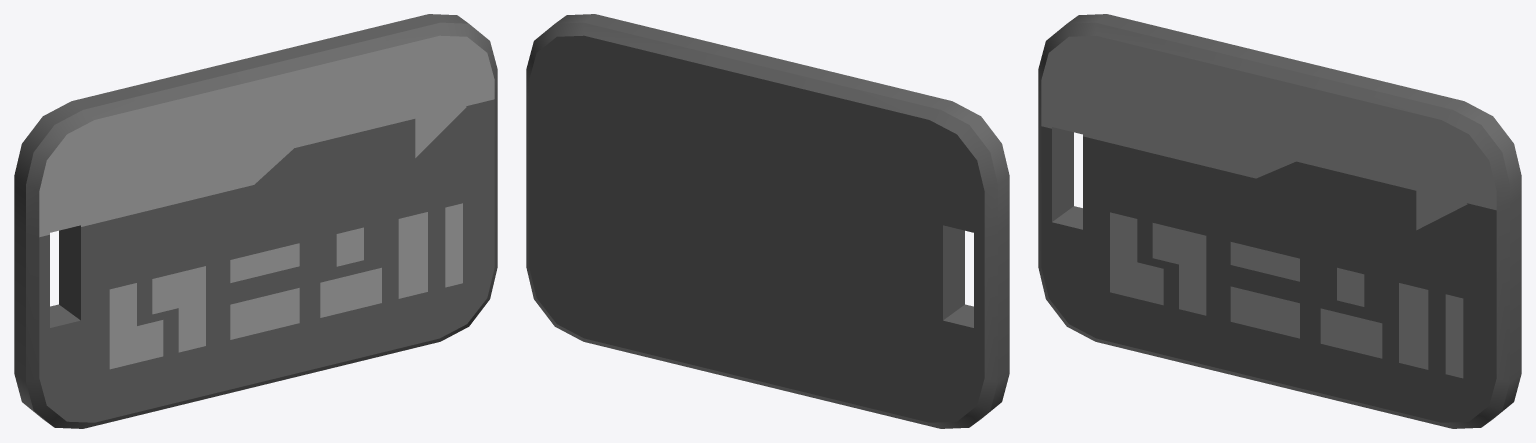
File: pickup_keycard.glb
3 views of the same model, side by side, from view 1: azimuth 30°, elevation 25°; view 2: azimuth 150°, elevation 25°; view 3: azimuth 330°, elevation 25° (orthographic).
Visible parts, largest first — view 1: Pickup_KeyCard; view 2: Pickup_KeyCard; view 3: Pickup_KeyCard.
Part boxes in pixels (x1,y1,x2,y2): Pickup_KeyCard: [14, 14, 497, 428]; Pickup_KeyCard: [526, 14, 1009, 428]; Pickup_KeyCard: [1038, 14, 1521, 428].
Bounding box in the file's own units: 1.04 × 0.674 × 0.0876.
1 material, 1 textured.
